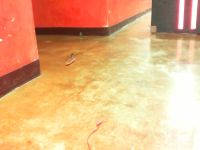switch: (177, 1, 185, 30), (190, 1, 198, 28)
